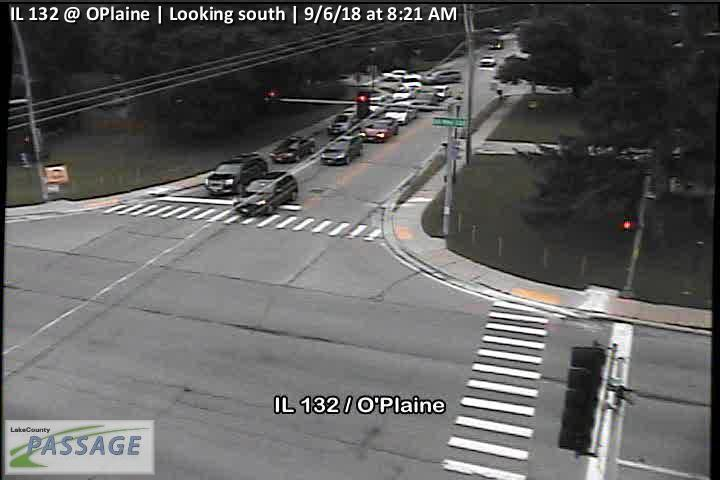SUV: (233, 171, 298, 215), (205, 155, 268, 198), (320, 135, 363, 166), (428, 70, 461, 85), (488, 39, 504, 50)
Sedan: (270, 136, 316, 162), (360, 117, 398, 144), (384, 101, 417, 125), (328, 113, 352, 134), (479, 55, 496, 68)
